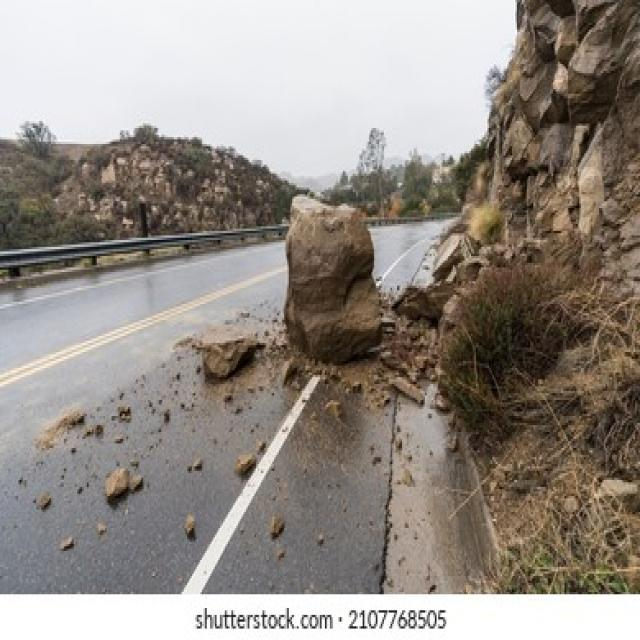landSliding: (129, 201, 499, 595)
